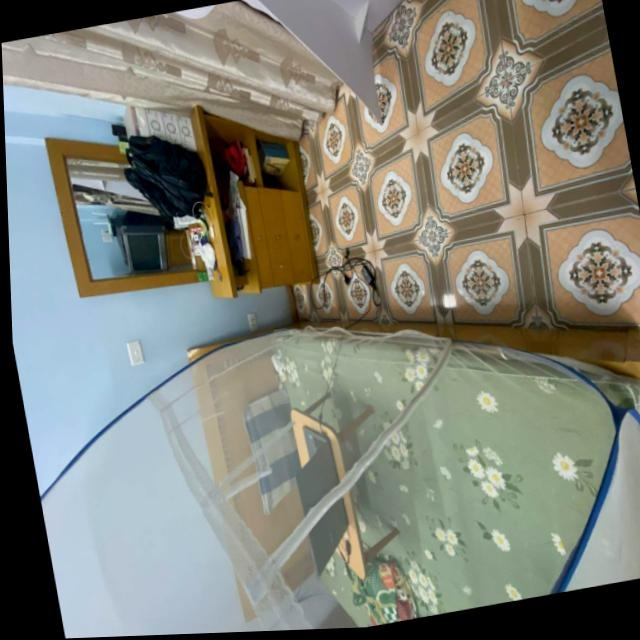outlet: (245, 307, 264, 337)
